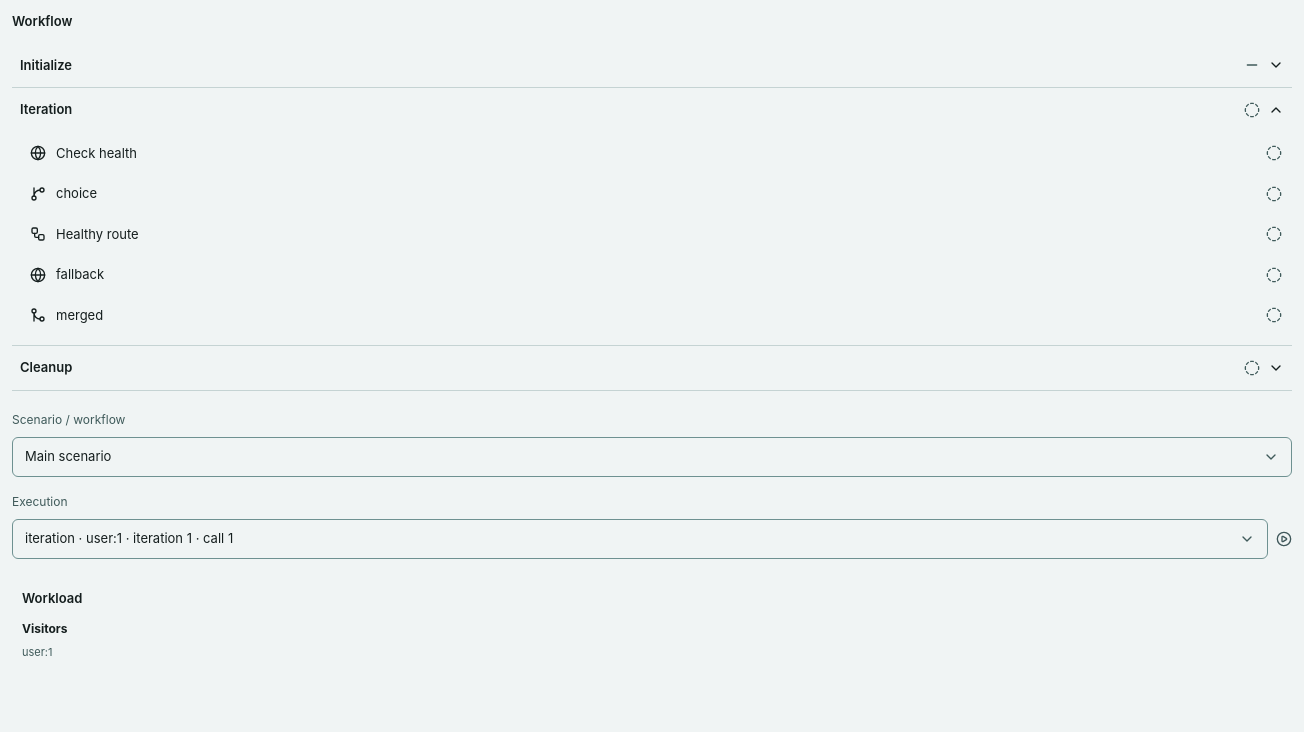
Test: shows captured steps under Iteration by default and selects their execution scope
Check: the button "Check health" does not show "pending", box [20, 134, 1292, 172]
Step 1. Hover over the 2nd picture named "Pending" → (1274, 153), box [1266, 145, 1282, 161]
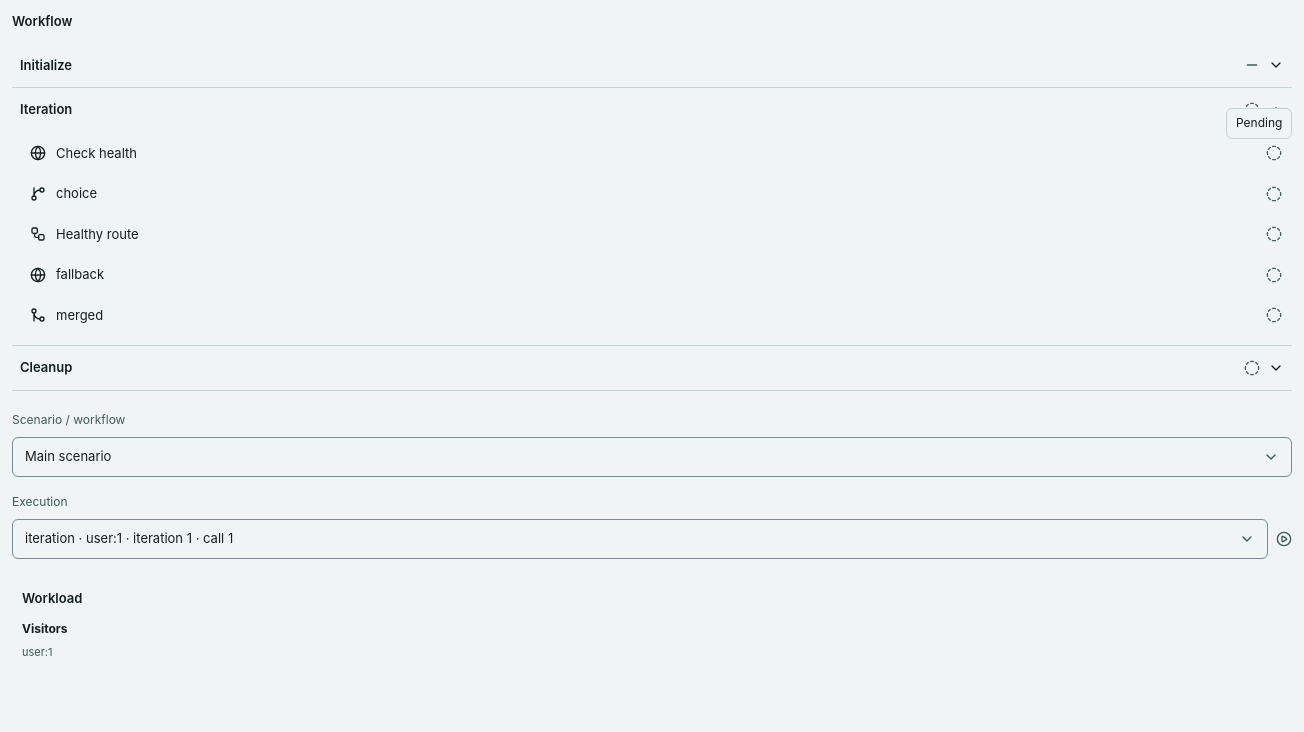
Check: the tooltip reads "Pending", box [1236, 115, 1282, 130]
Step 2. Click the button "Check health" → click(96, 152), box [20, 134, 1292, 172]
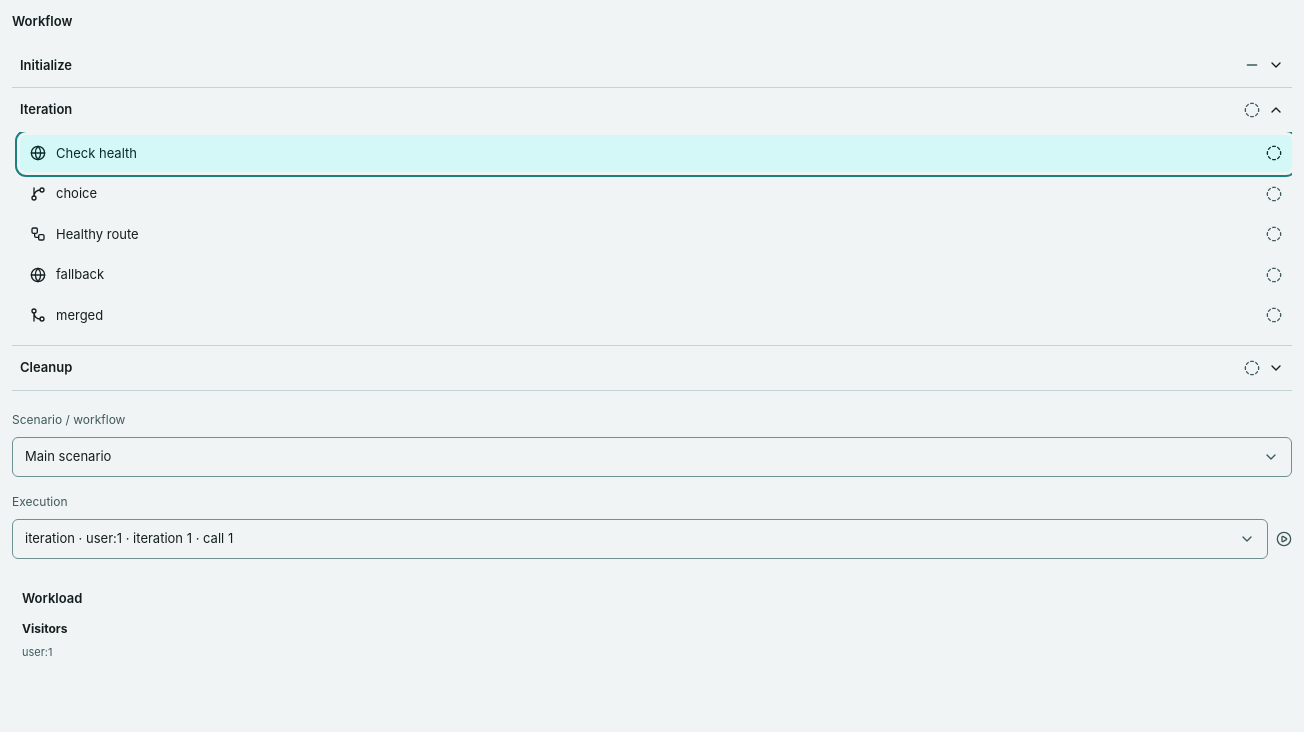
Step 3. Click the button "Cleanup " → click(46, 367), box [12, 346, 1292, 390]
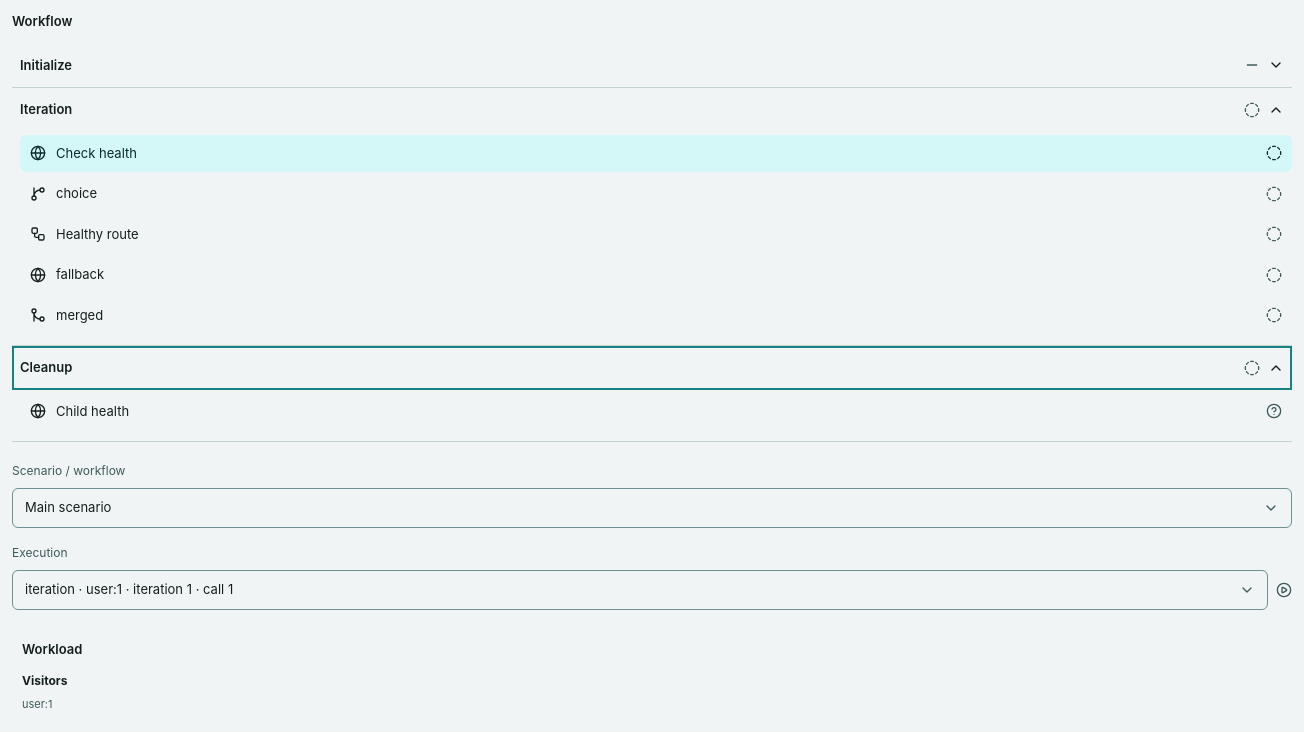
Check: the button "Child health" is disabled, box [20, 392, 1292, 430]
